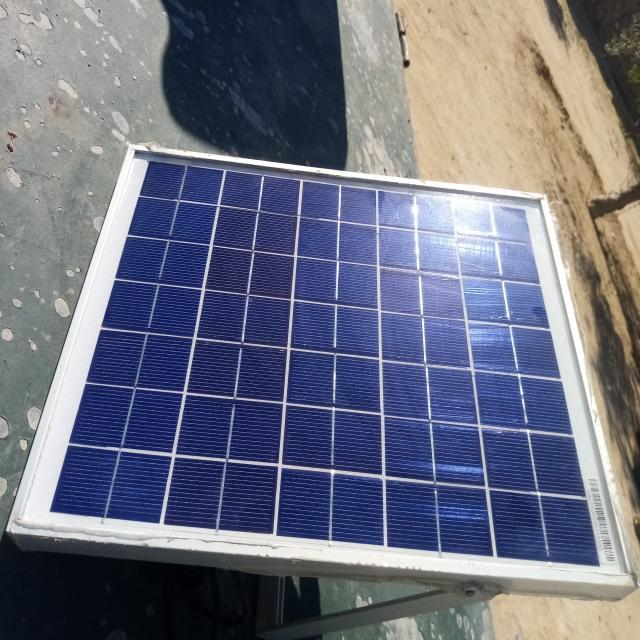no faulty: (9, 146, 637, 587)
